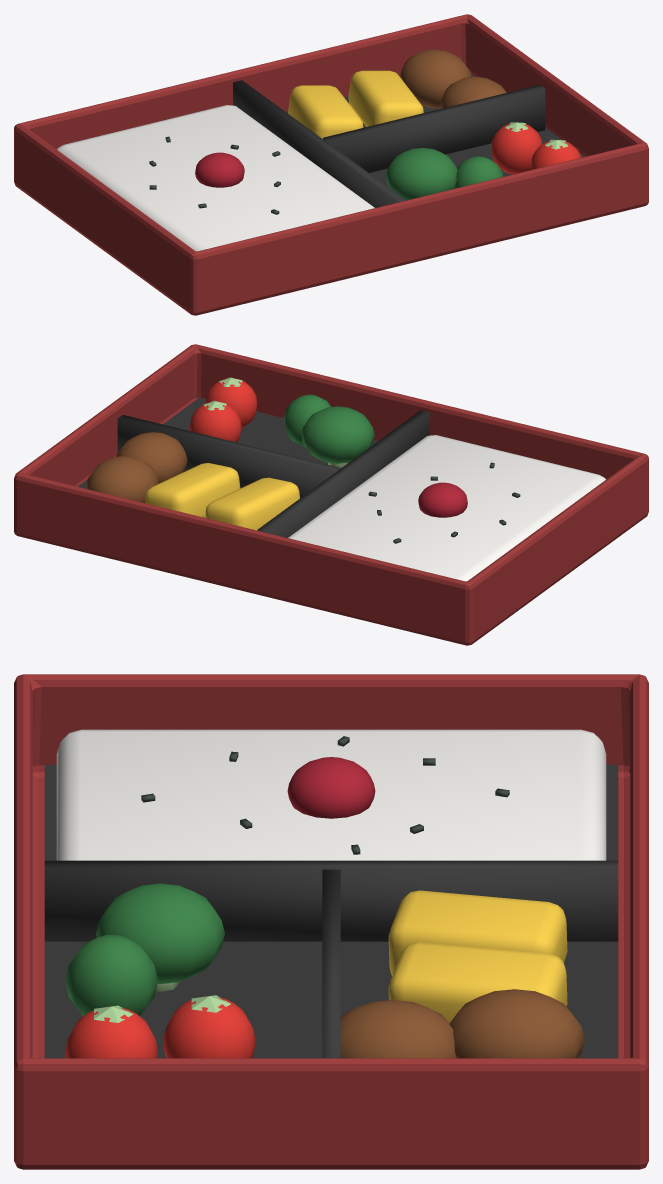
File: bento_box.glb
3 views of the same model, one above another, from view 1: azimuth 30°, elevation 25°; view 2: azimuth 150°, elevation 25°; view 3: azimuth 270°, elevation 25° (orthographic). The views are drawn at different scales.
Parts seen in each view (by area): view 1: Bento_Box; view 2: Bento_Box; view 3: Bento_Box.
Part boxes in pixels (x1,y1,x2,y2): Bento_Box: (14, 14, 648, 315); Bento_Box: (14, 344, 648, 645); Bento_Box: (14, 674, 648, 1169).
Size of the model in its own units: 0.76 by 0.1104 by 0.52.
